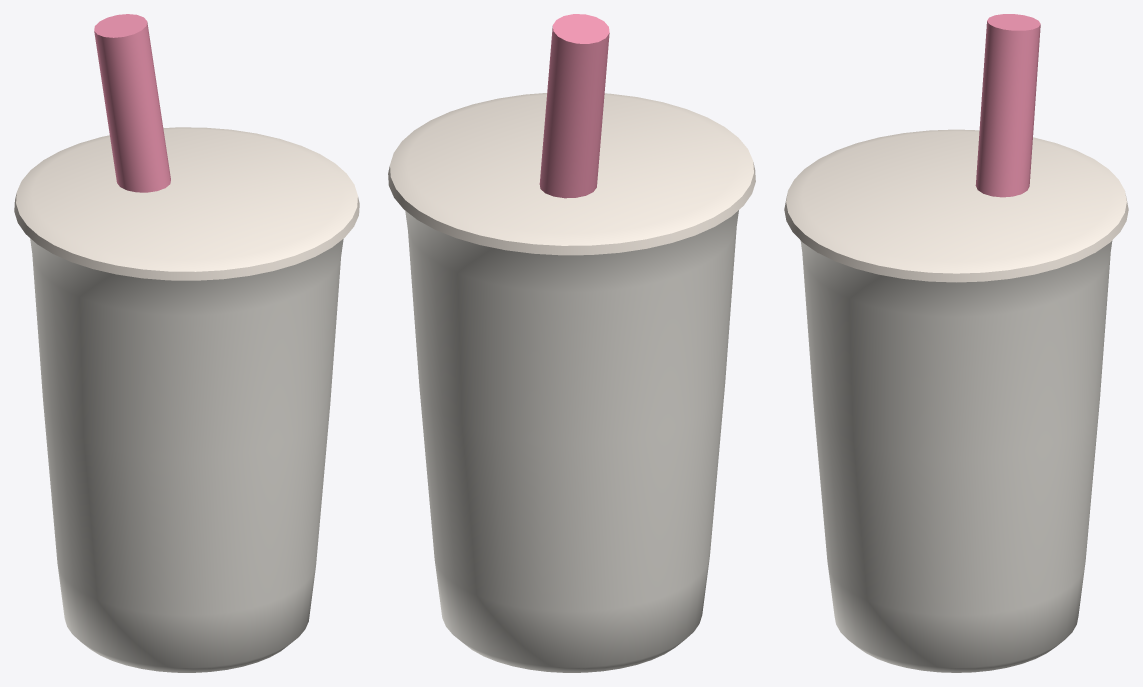
File: BrownSugarMilkTea.glb
The picture shows the model from 3 angles, left to right: view 1: azimuth 30°, elevation 25°; view 2: azimuth 150°, elevation 25°; view 3: azimuth 270°, elevation 25°; orthographic projection. The views are drawn at different scales.
Parts seen in each view (by area): view 1: BrownSugarMilkTea; view 2: BrownSugarMilkTea; view 3: BrownSugarMilkTea.
Part boxes in pixels (x1=…): BrownSugarMilkTea: x1=14, y1=14, x2=359, y2=672; BrownSugarMilkTea: x1=388, y1=14, x2=755, y2=672; BrownSugarMilkTea: x1=784, y1=14, x2=1128, y2=672.
Bounding box in the file's own units: 0.96 × 1.81 × 0.96.
Materials: 5 (5 with a texture image).
